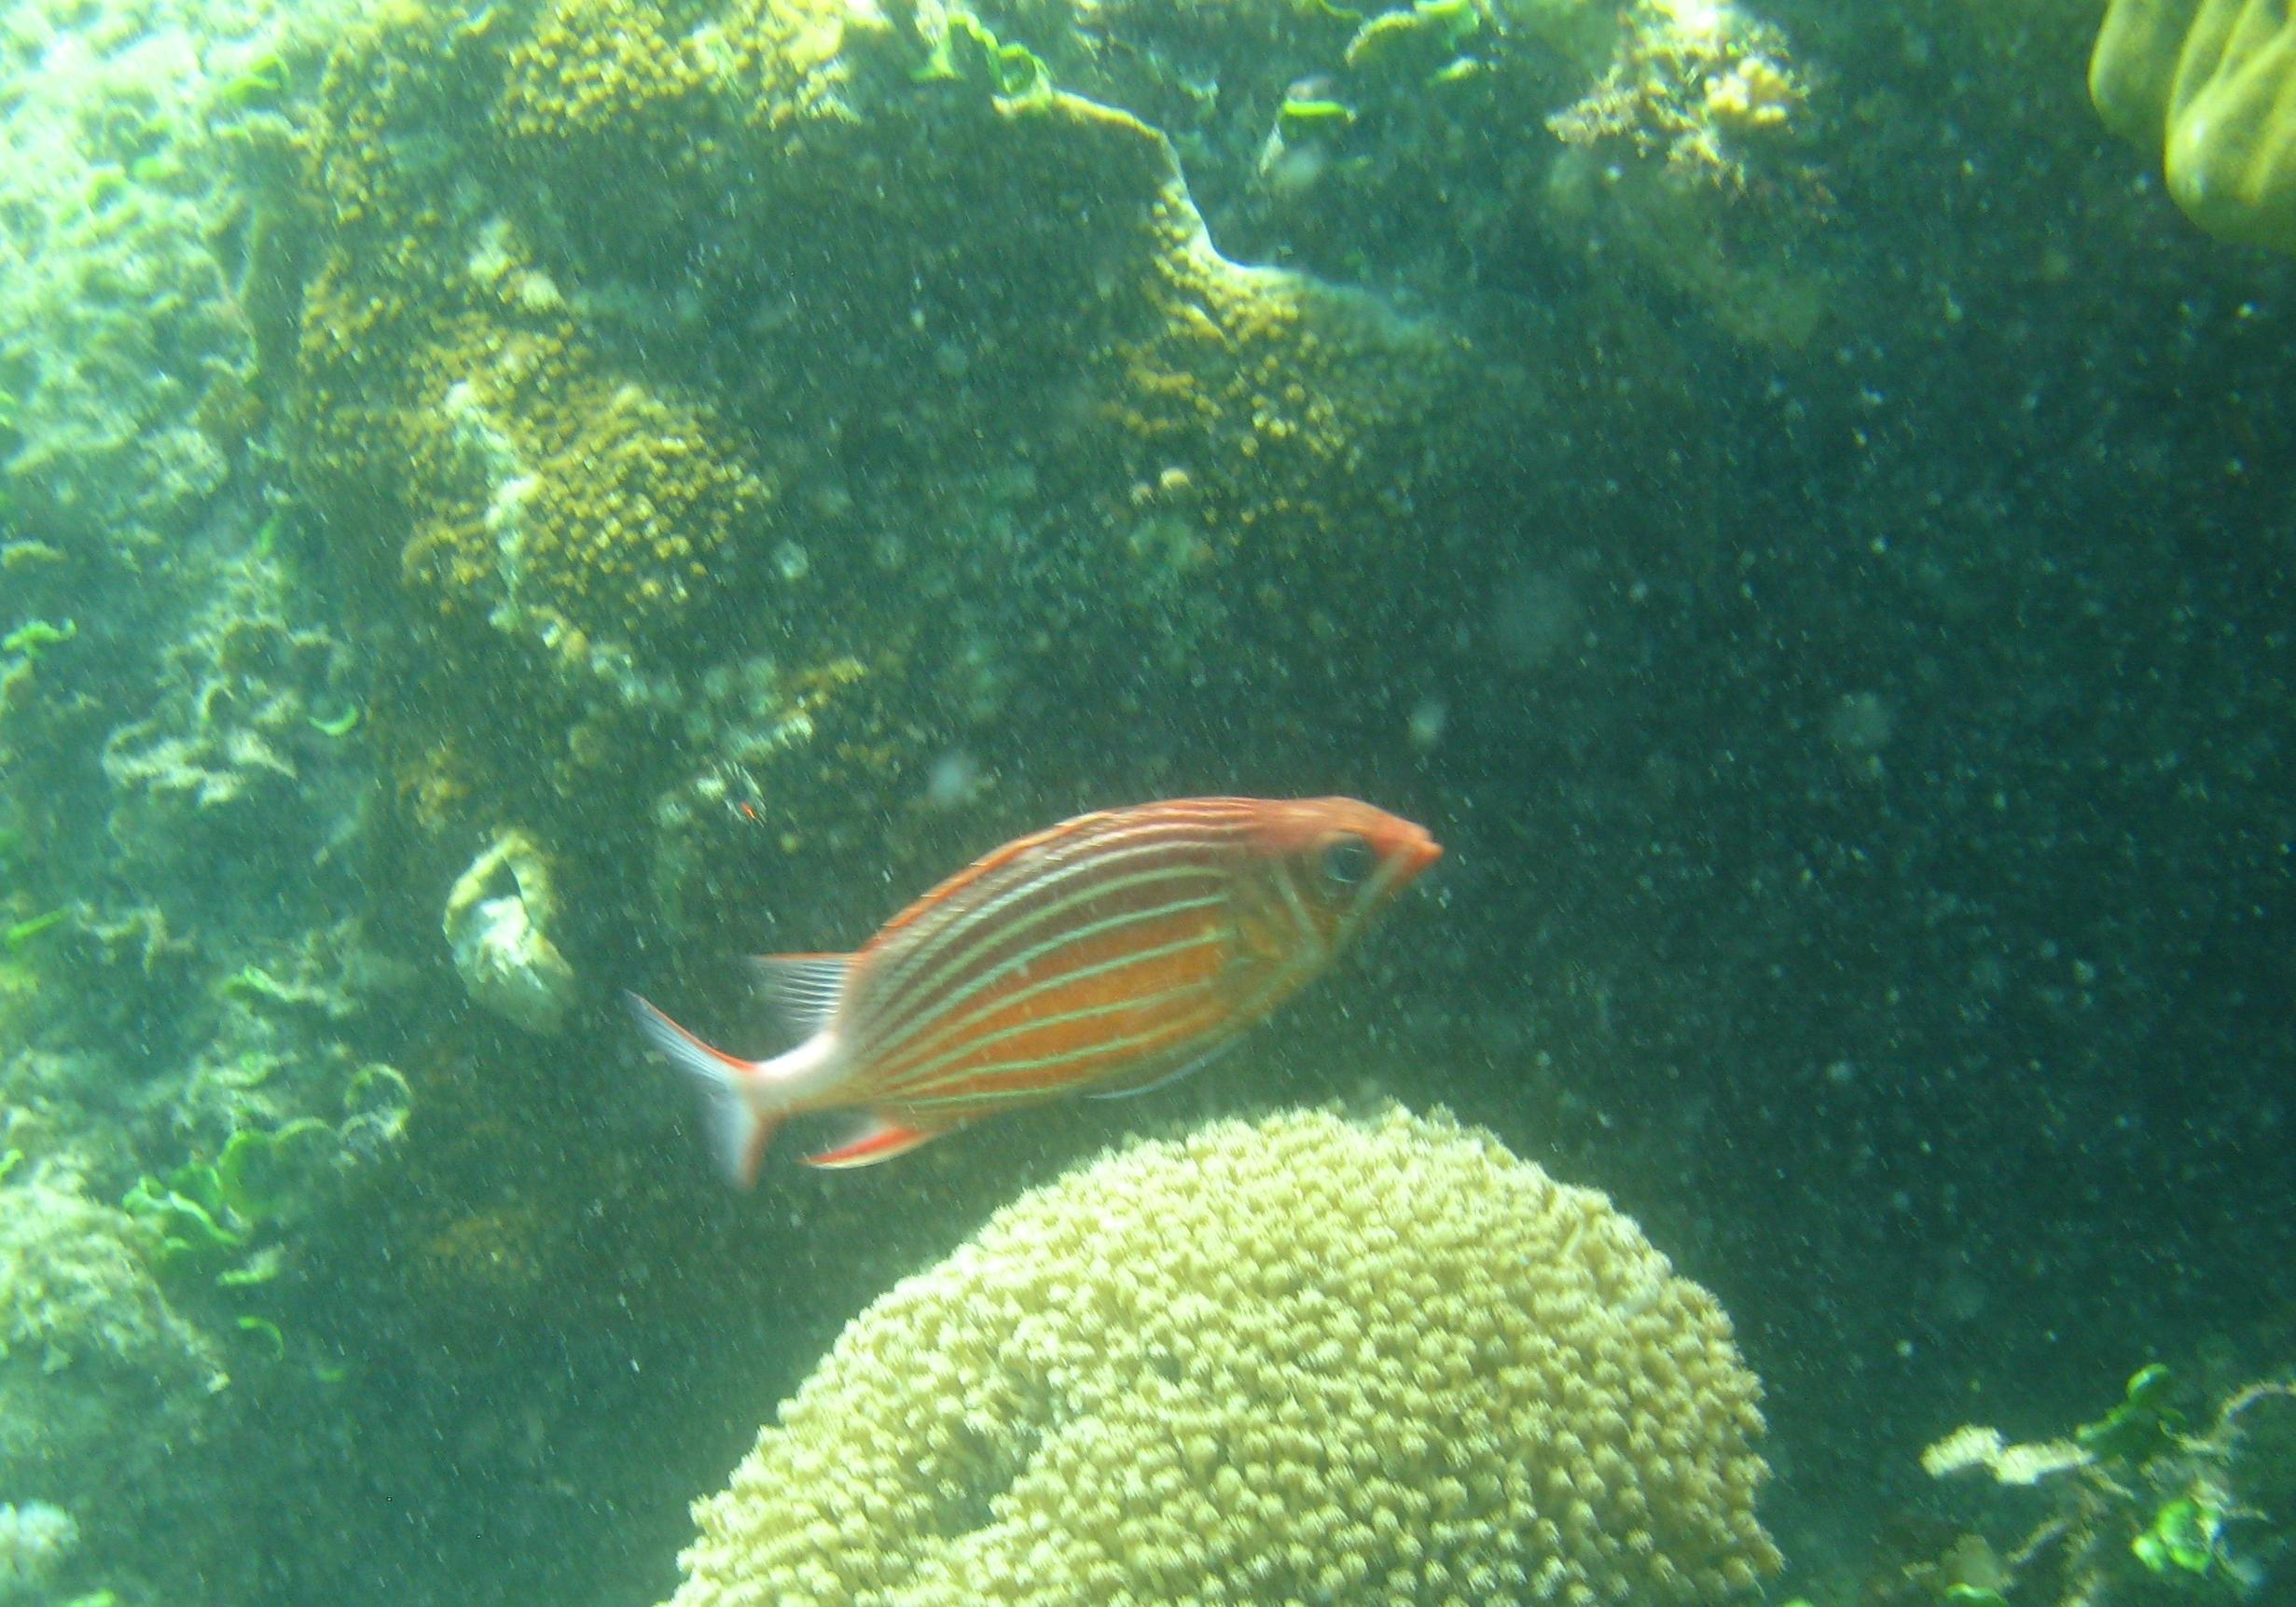Fish: (623, 790, 1446, 1200)
